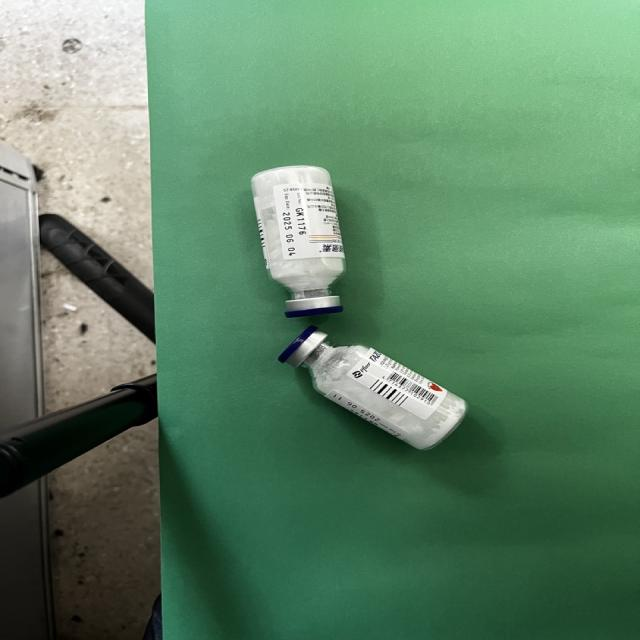Vials: (279, 326, 466, 448), (251, 166, 345, 318)
